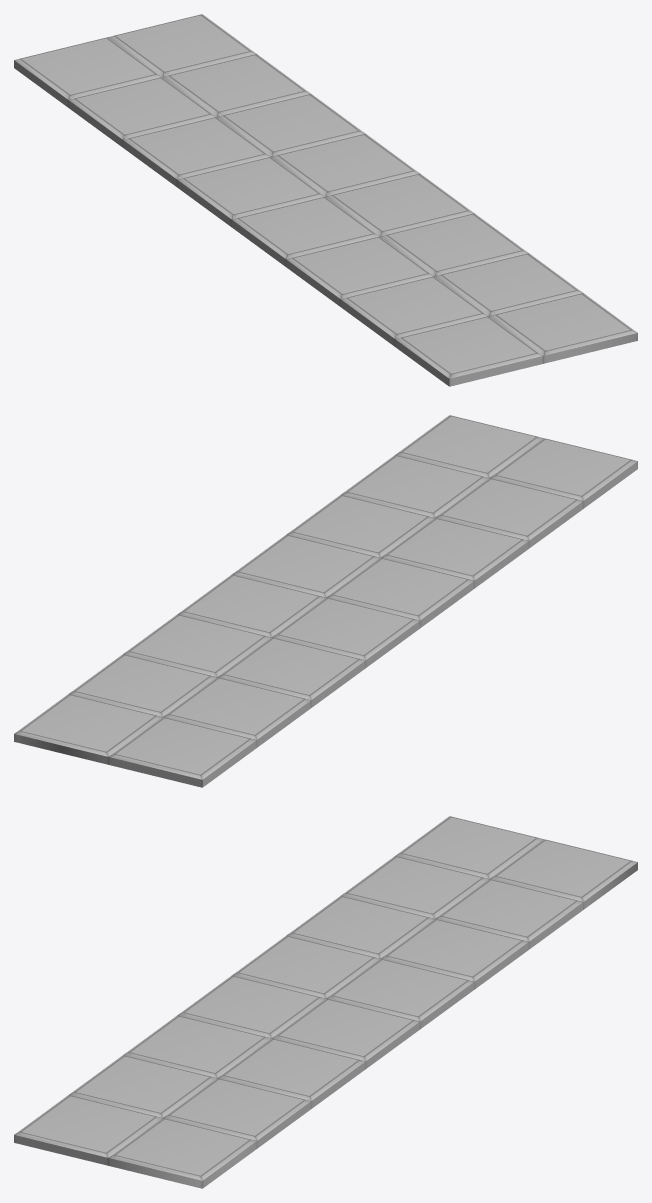
File: Floor.fbx
The picture shows the model from 3 angles, top to bottom: view 1: azimuth 30°, elevation 25°; view 2: azimuth 150°, elevation 25°; view 3: azimuth 330°, elevation 25°; orthographic projection.
Visible parts, largest first — view 1: Floor; view 2: Floor; view 3: Floor.
Part boxes in pixels (left/top/right/bottom): Floor: left=14, top=14, right=637, bottom=386; Floor: left=14, top=415, right=637, bottom=787; Floor: left=14, top=816, right=637, bottom=1188.
Size of the model in its own units: 1000 by 50 by 4000.
